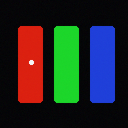0 point: (29, 60, 33, 64)
